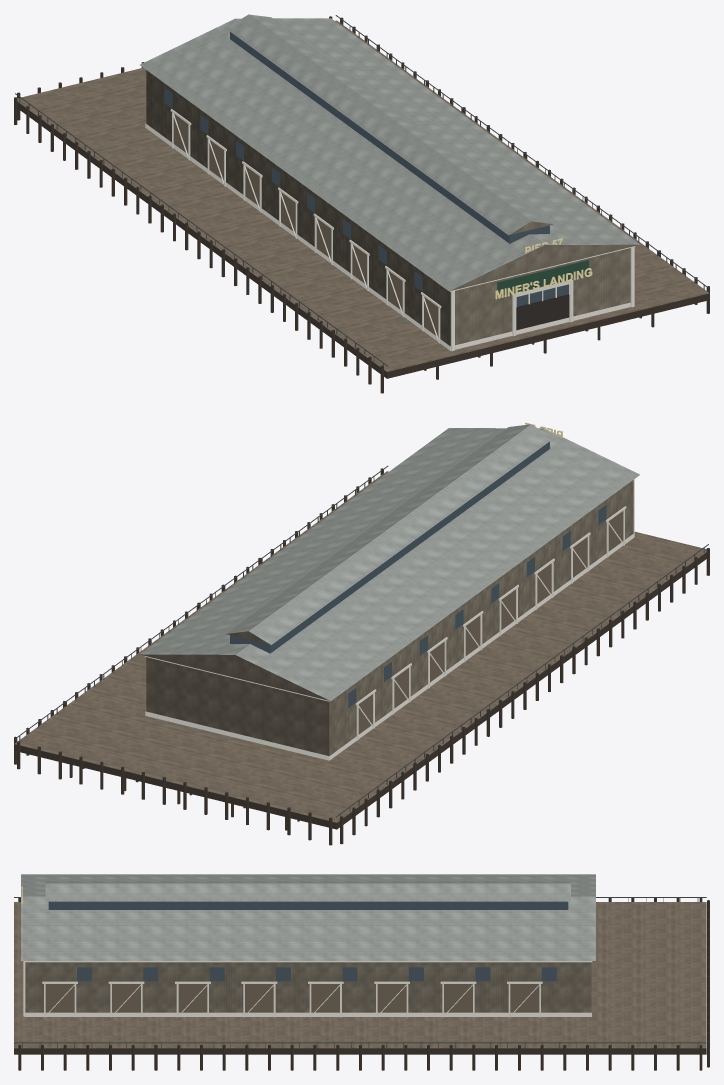
Rendered from pier_57.glb.
3 views of the same model, one above another, from view 1: azimuth 30°, elevation 25°; view 2: azimuth 150°, elevation 25°; view 3: azimuth 270°, elevation 25° (orthographic). The views are drawn at different scales.
Parts seen in each view (by area): view 1: pier_57; view 2: pier_57; view 3: pier_57.
Part boxes in pixels (x1,y1,x2,y2): pier_57: (14,14,709,393); pier_57: (14,422,709,845); pier_57: (14,874,709,1070).
Bounding box in the file's own units: 61.2 × 21.55 × 121.
4 materials, 4 textured.
